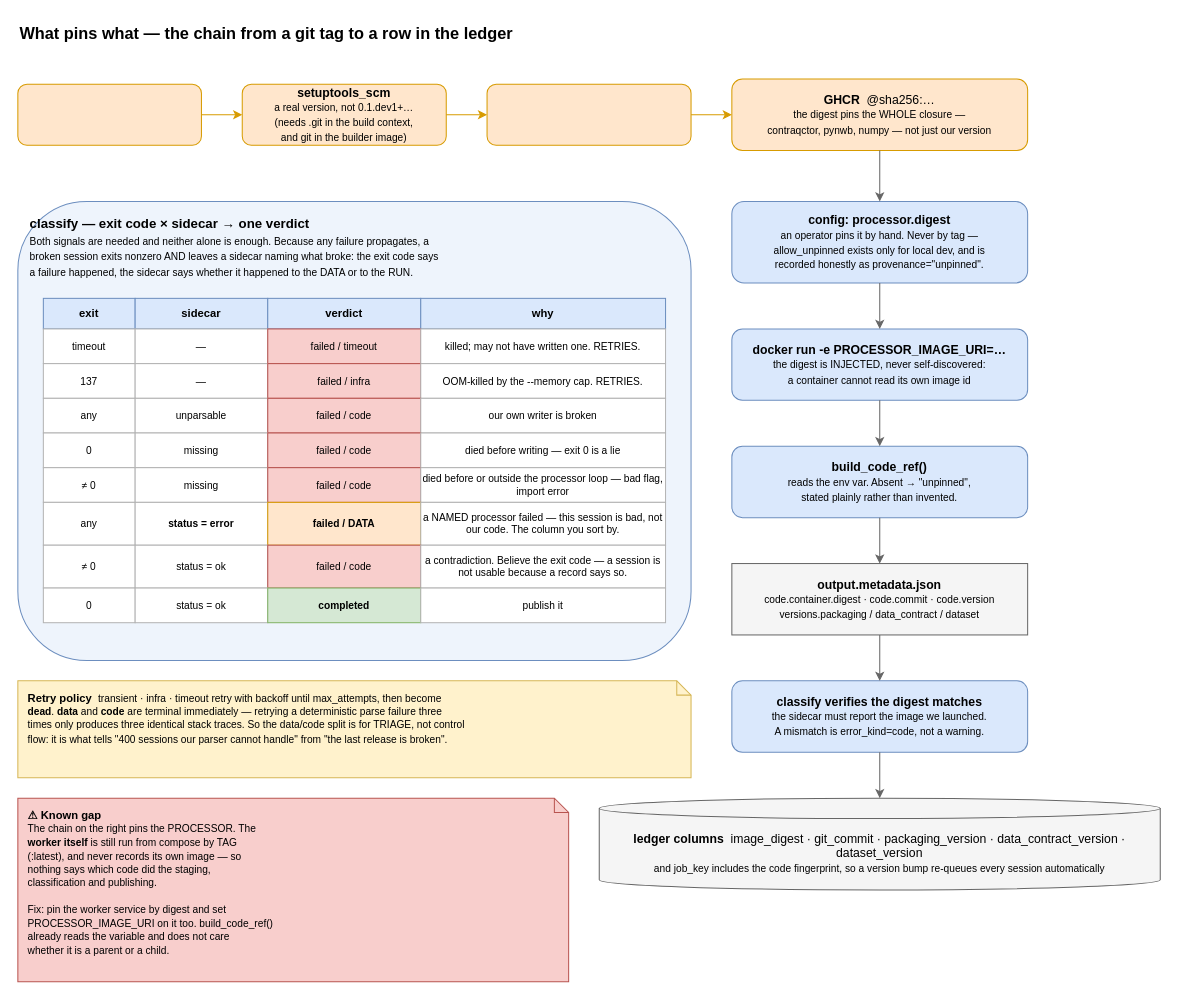
Image size: 1178x1000. Some labels were removed from this diagram. The box of each missing label's shape, as (x1, y1, x2, y2) in pixels:
docker build --build-arg GIT_COMMIT → ENV PROCESSOR_GIT_COMMIT: (486, 83, 691, 145)
git tag a release is published: (17, 83, 201, 145)
